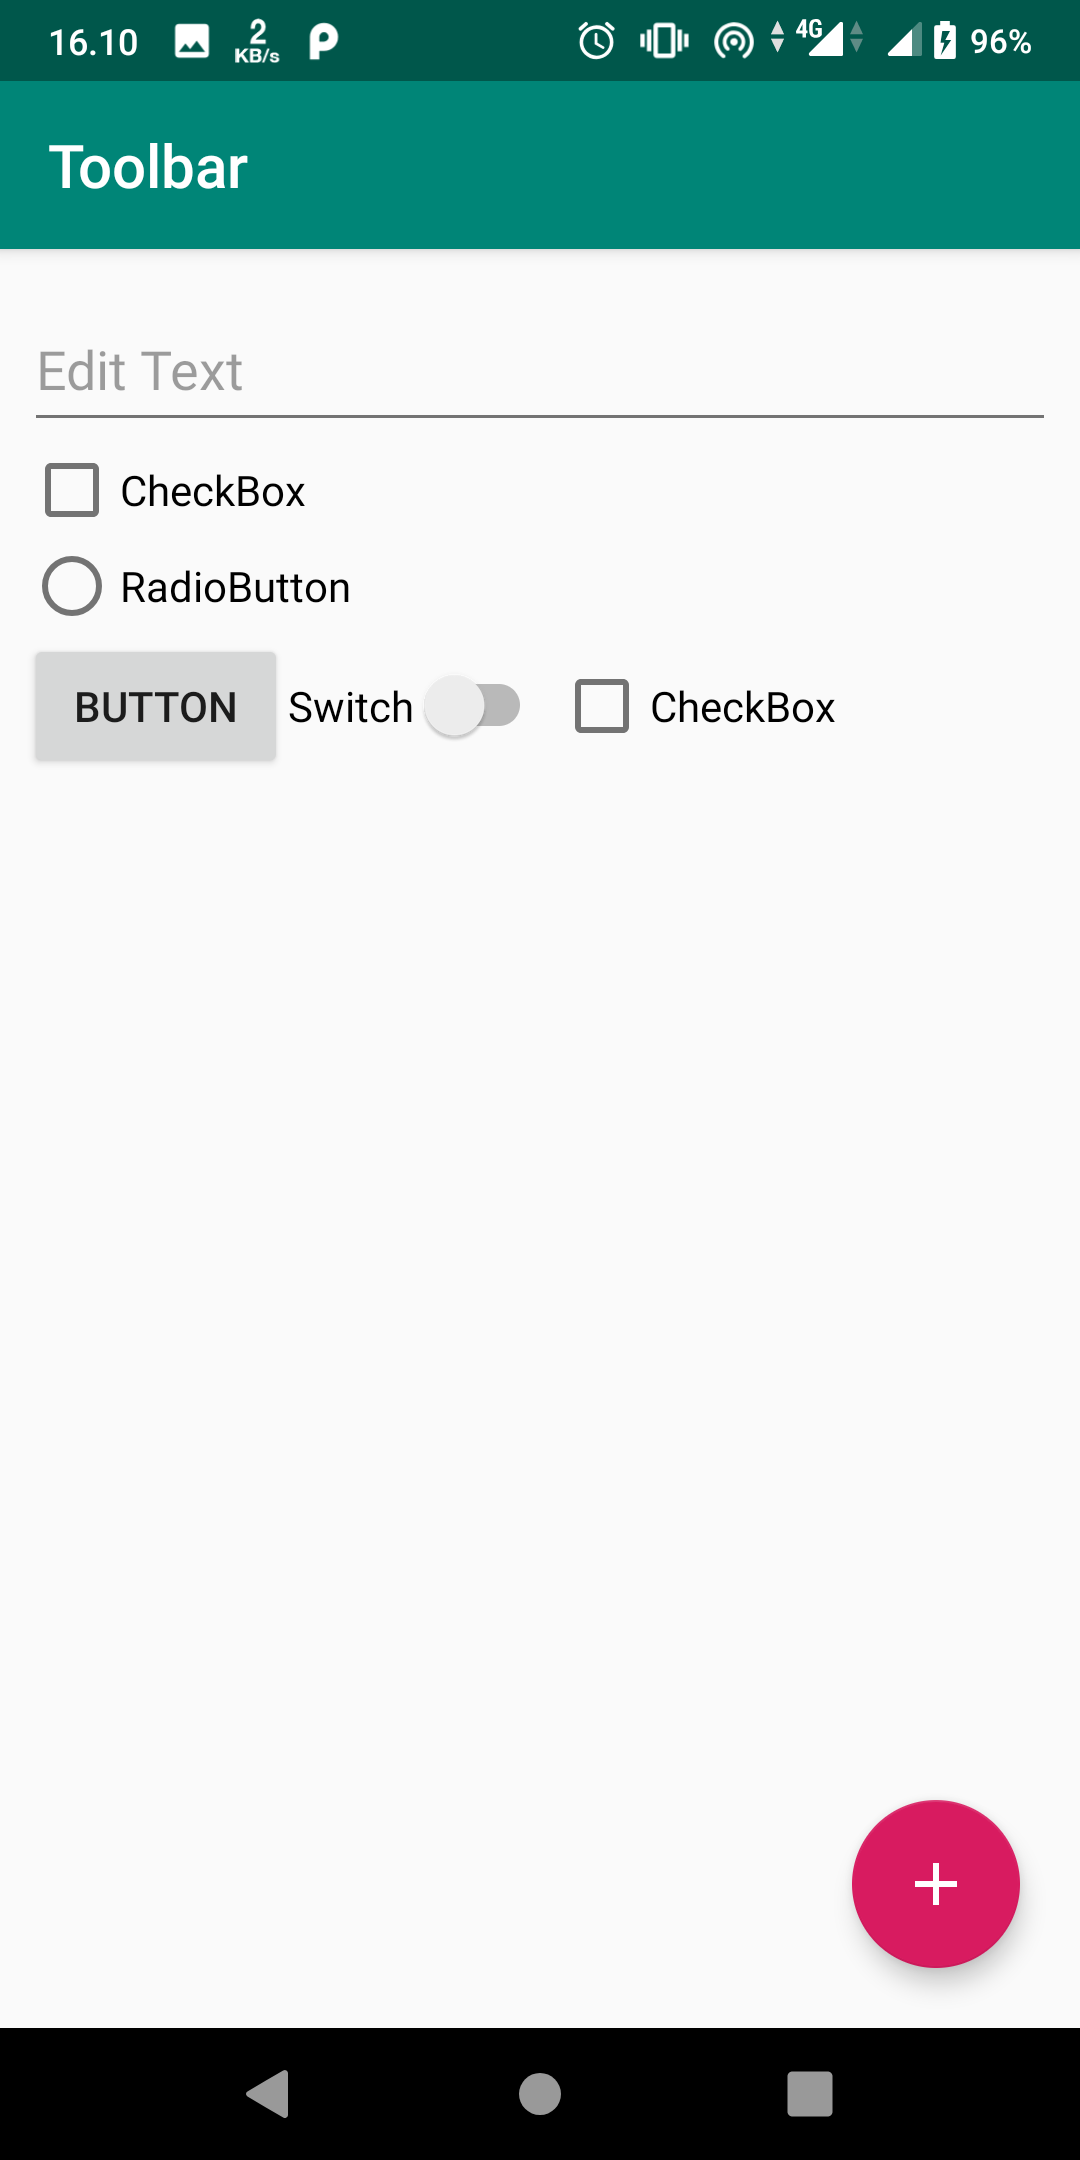button: (26, 641, 281, 773)
checkBox: (36, 448, 326, 528), (565, 674, 843, 741)
editText: (23, 325, 1059, 431)
floatingButton: (839, 1783, 1030, 1980)
radioButton: (36, 539, 365, 635)
switch: (281, 676, 536, 741)
toolbar: (1, 80, 1080, 247)
